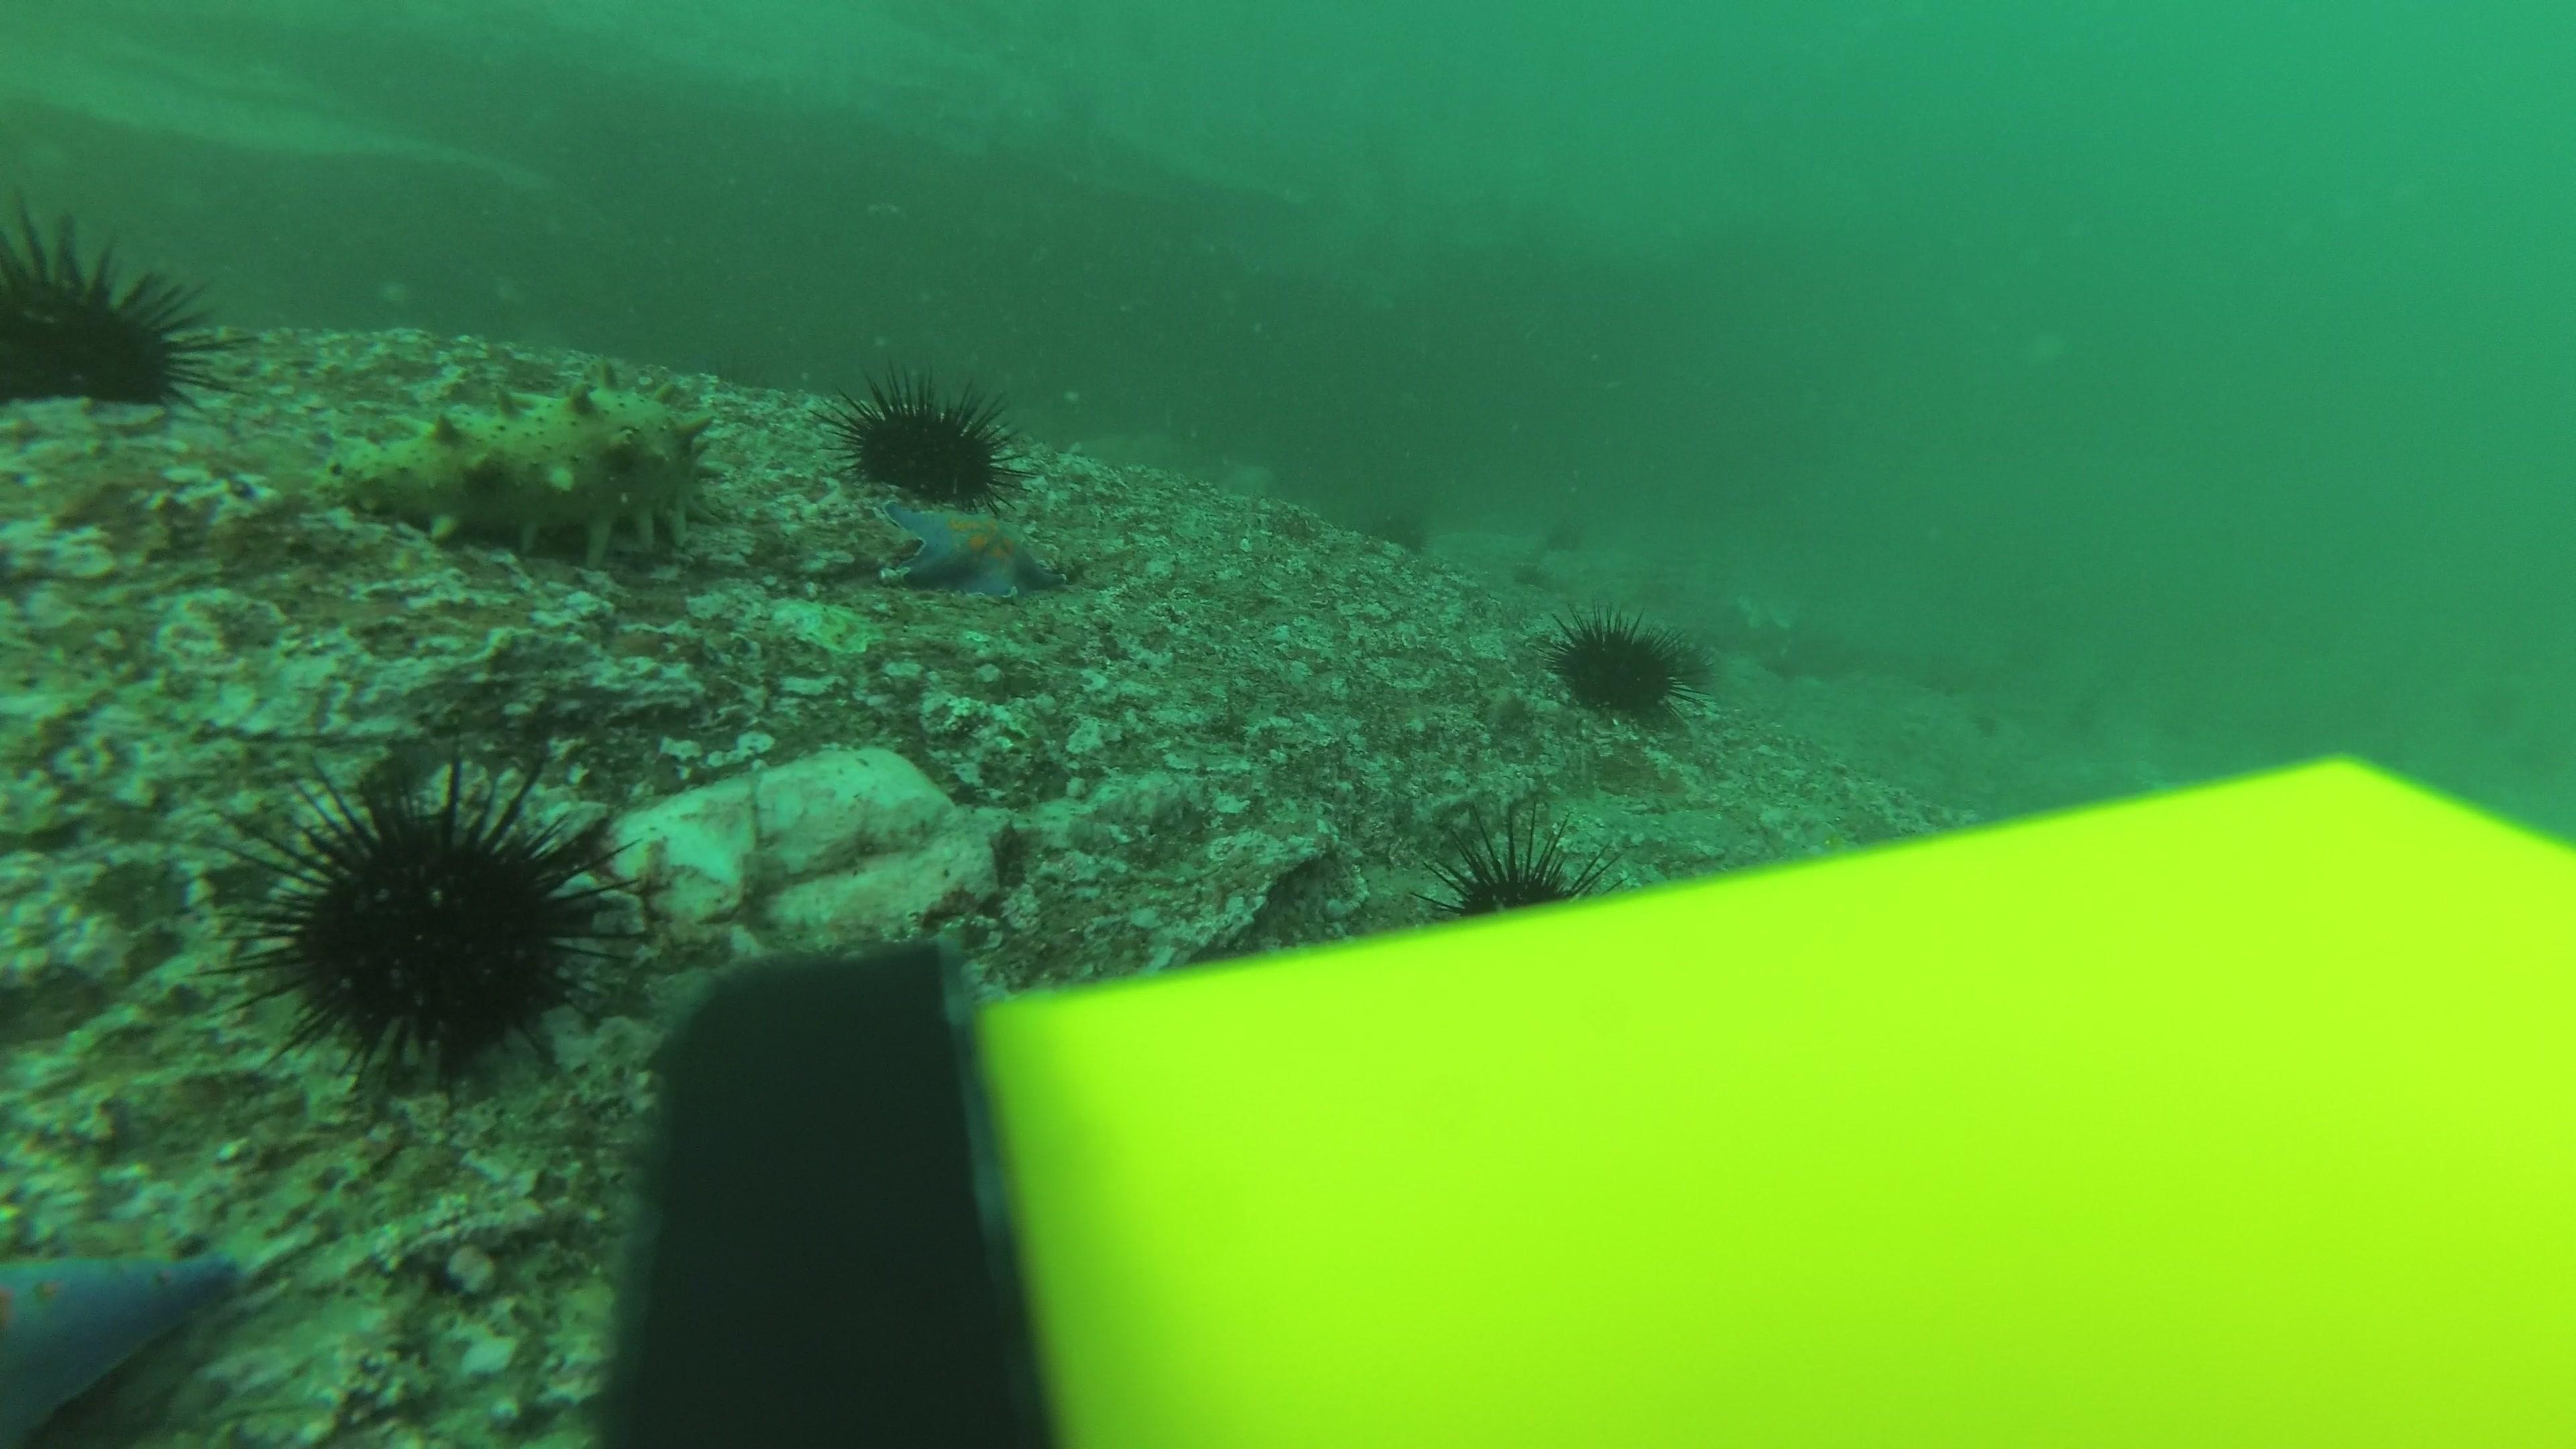echinus: (219, 752, 637, 1092), (2, 195, 226, 421), (833, 364, 1019, 506), (1546, 607, 1702, 725), (1426, 814, 1594, 922), (1330, 479, 1444, 559), (1504, 557, 1557, 600), (1536, 515, 1587, 557)
holothurian: (331, 375, 727, 566)
starfish: (2, 1226, 249, 1440), (878, 492, 1072, 607)
